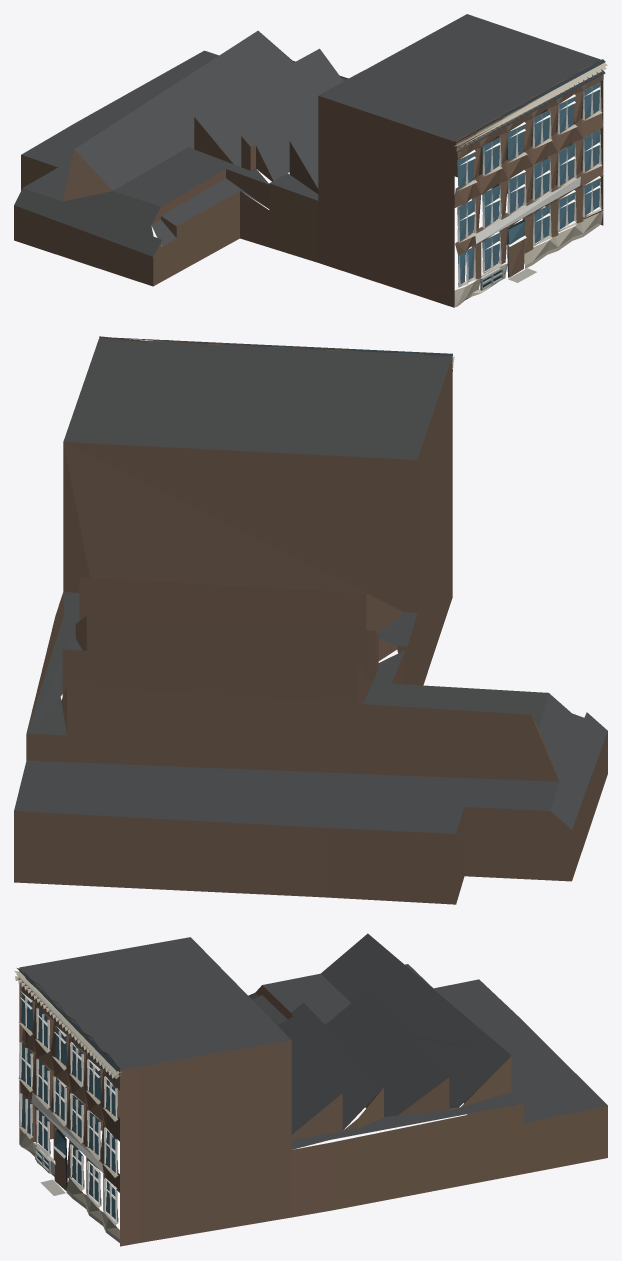
File: el-tawheed.lod1.glb
3 renders of one model, top to bottom at view 1: azimuth 30°, elevation 25°; view 2: azimuth 150°, elevation 25°; view 3: azimuth 270°, elevation 25°, orthographic. The views are drawn at different scales.
Visible parts, largest first — view 1: el-tawheed; view 2: el-tawheed; view 3: el-tawheed.
Part boxes in pixels (x1,y1,x2,y2): el-tawheed: (14, 14, 607, 307); el-tawheed: (14, 336, 607, 904); el-tawheed: (14, 933, 607, 1246).
Bounding box in the file's own units: 33.61 × 11.69 × 35.28.
